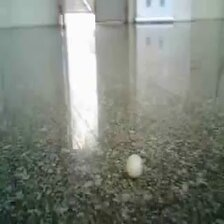w: (124, 153, 147, 178)
